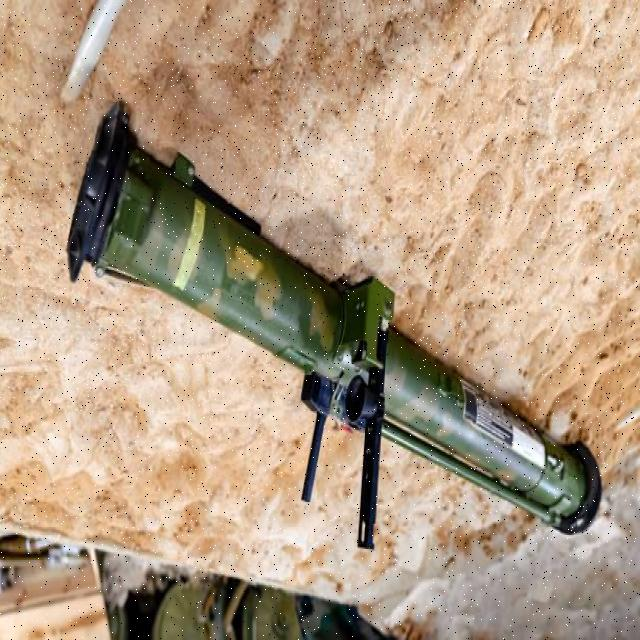bazooka: (56, 84, 609, 573)
